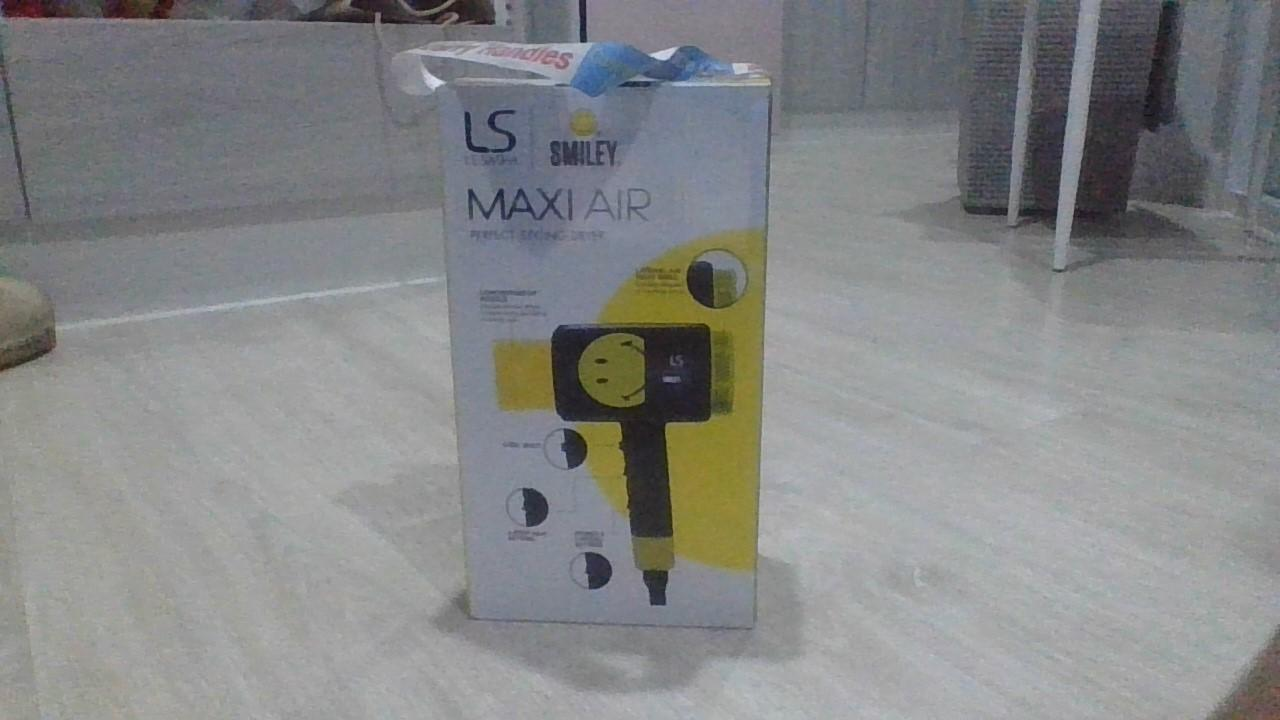IRON: (416, 50, 778, 634)
